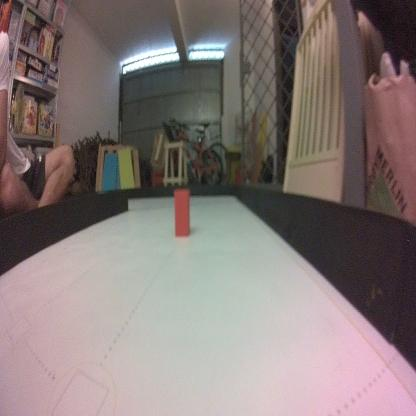red: (172, 186, 191, 236)
